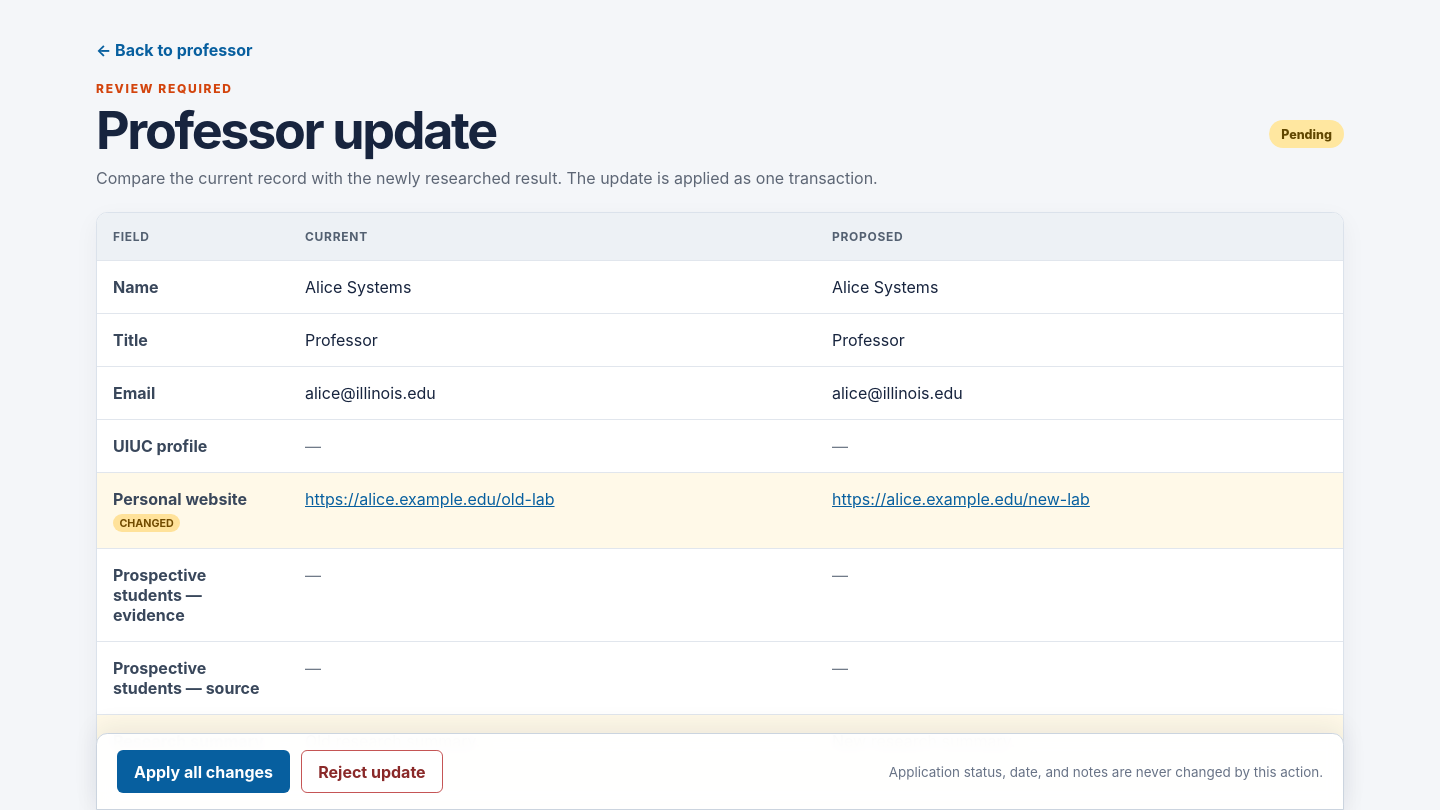
Scenario: shows field and publication differences and applies the proposal as a whole
This screenshot has width=1440, height=810.
Expected: the heading "Professor update" is shown, [96, 99, 496, 162]
Expected: the text "Old research summary." is shown, [289, 714, 816, 791]
Click the button "Apply all changes".
click(204, 771)  # box [117, 750, 290, 793]
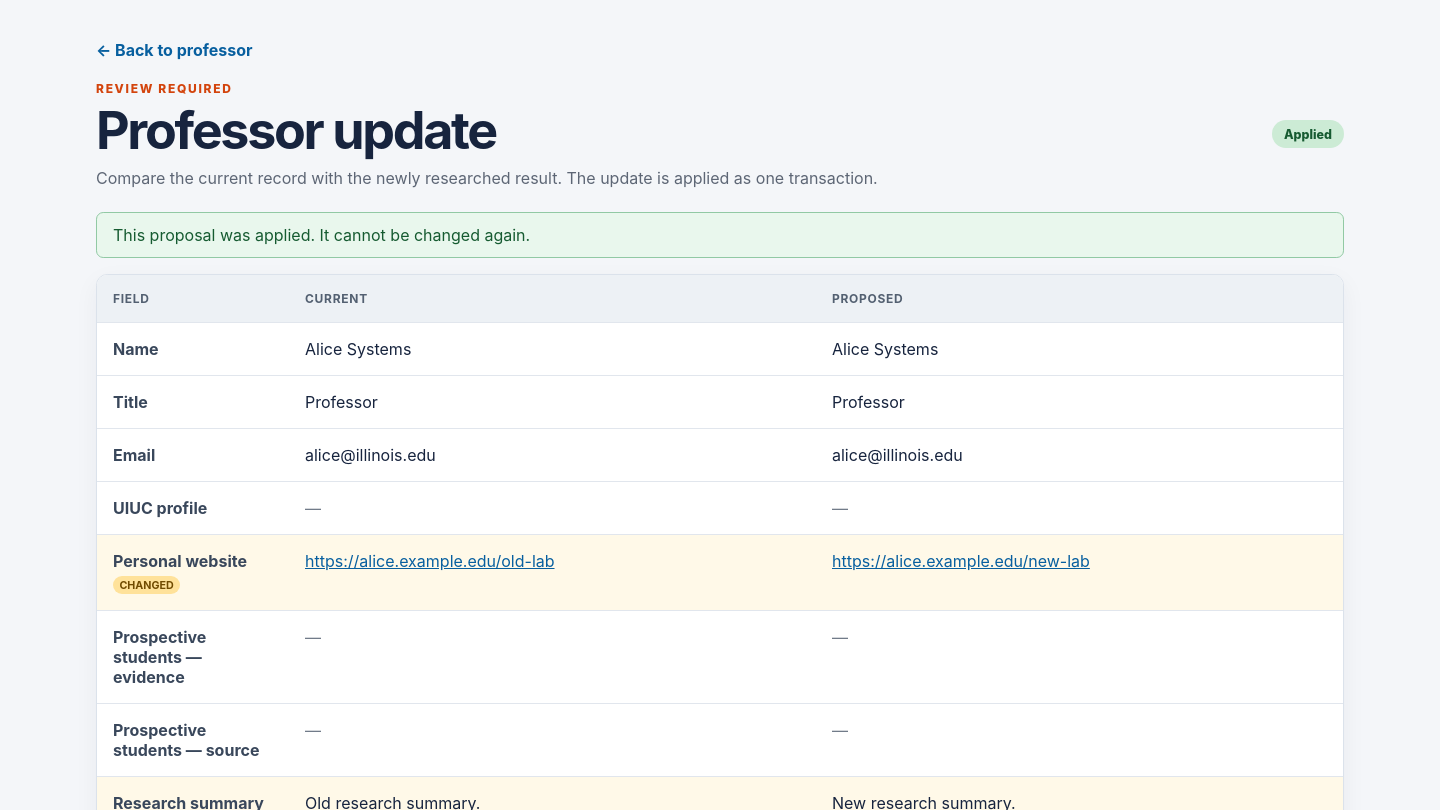
Expected: the text "This proposal was applied. It cannot be changed again." is shown, [96, 212, 1344, 258]
Expected: the button "Apply all changes" is gone
